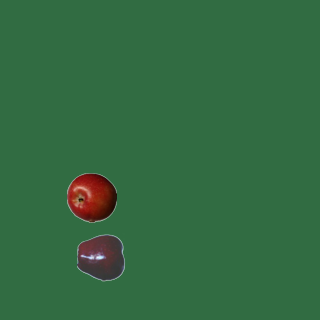Apple Braeburn: (66, 172, 116, 222)
Apple Red Delicious: (76, 232, 126, 282)
